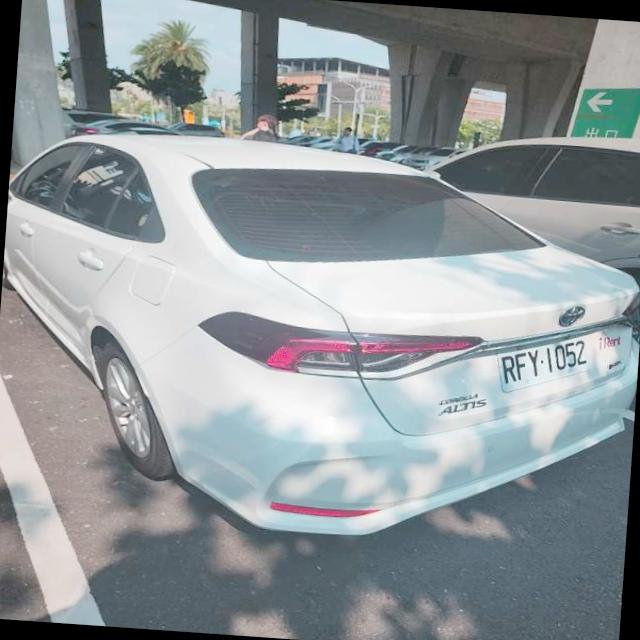license plate: (498, 337, 592, 391)
wheel: (95, 341, 175, 479)
